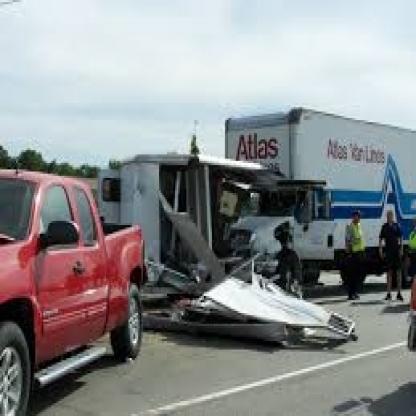accident: (101, 99, 416, 366)
